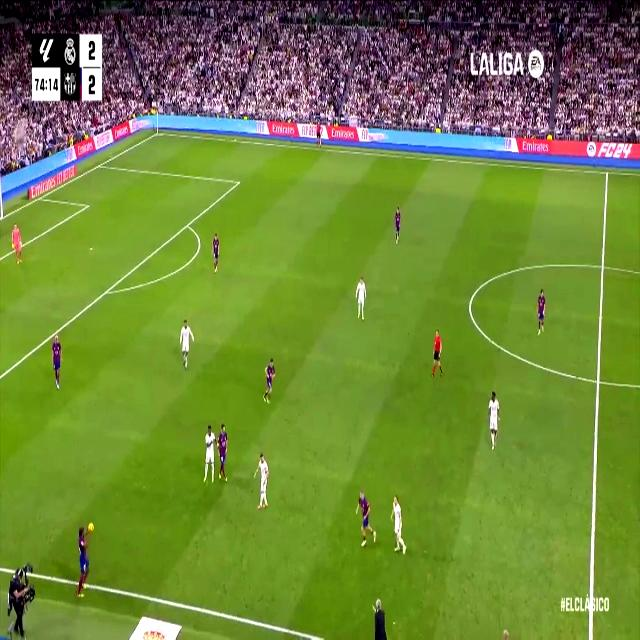bigarea_top_inner: (235, 175, 241, 189)
bigarea_top_outter: (96, 158, 104, 170)
bottom_arc_area_intersection: (102, 282, 111, 300)
corner: (153, 128, 161, 138)
halfcircle_bottom: (592, 369, 604, 393)
halfcircle_top: (598, 255, 608, 278)
midline_top_intersection: (604, 166, 610, 179)
smallarea_top_inner: (84, 200, 90, 211)
top_arc_area_intersection: (183, 217, 191, 232)
